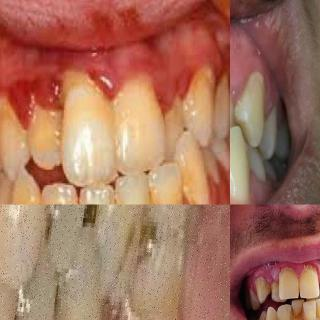Gum Swelling: (91, 48, 205, 104), (0, 60, 76, 116), (248, 260, 320, 295), (230, 57, 280, 103)
calculus: (128, 280, 190, 320), (22, 104, 61, 155), (0, 90, 27, 154), (178, 68, 214, 113), (175, 166, 212, 204), (300, 265, 318, 285), (276, 268, 298, 284), (256, 276, 268, 292), (270, 281, 280, 293)
maligned: (176, 142, 222, 204), (156, 87, 193, 151), (150, 160, 192, 204), (230, 126, 248, 204), (230, 88, 238, 143), (267, 282, 287, 302), (302, 299, 318, 320), (305, 283, 320, 303), (290, 297, 303, 320)
plaque: (237, 58, 276, 119)
stains: (290, 304, 305, 320)
